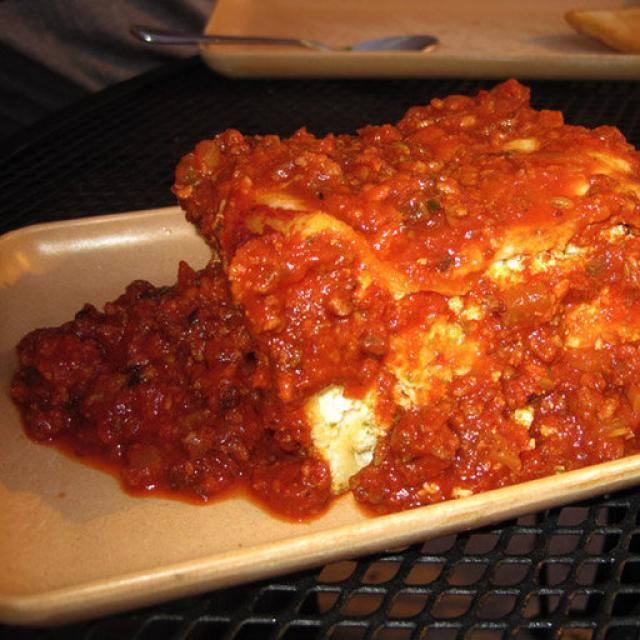Lasagna: (165, 88, 635, 509)
